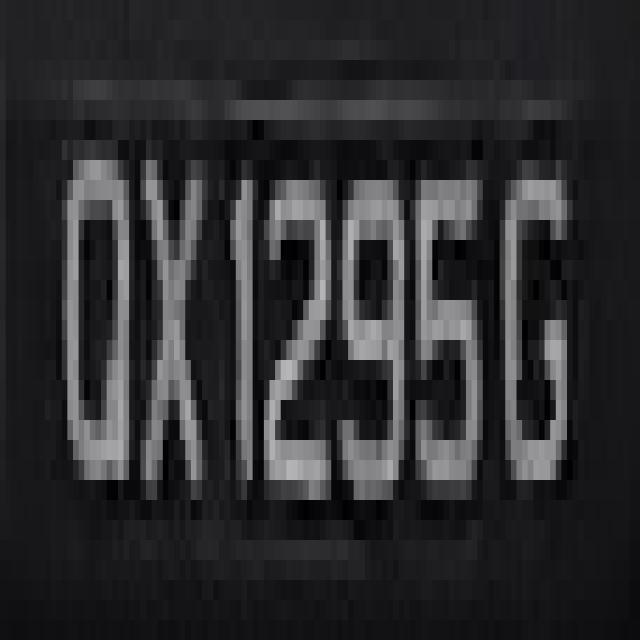1: (202, 80, 270, 560)
2: (253, 100, 331, 560)
5: (404, 100, 488, 500)
9: (320, 100, 415, 560)
G: (488, 140, 590, 580)
Q: (40, 100, 140, 520)
X: (140, 80, 213, 540)
